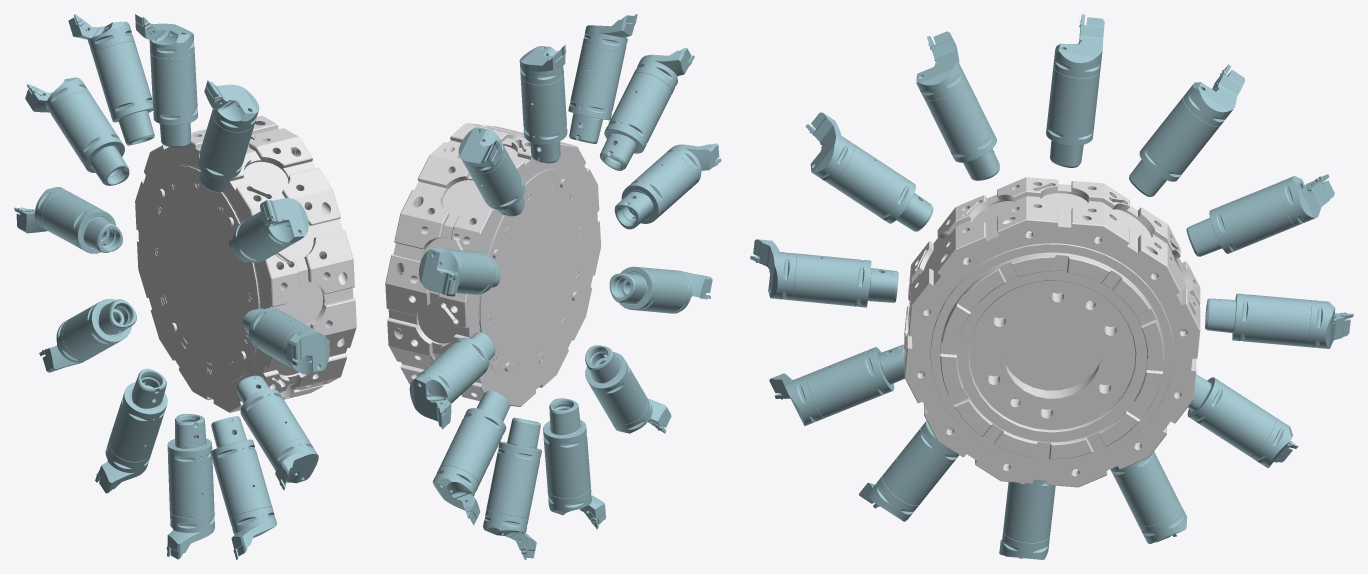
File: turret-stations.glb
3 renders of one model, left to right at view 1: azimuth 30°, elevation 25°; view 2: azimuth 150°, elevation 25°; view 3: azimuth 270°, elevation 25°, orthographic. The views are drawn at different scales.
Visible parts, largest first — view 1: Turret Assembly; view 2: Turret Assembly; view 3: Turret Assembly.
Part boxes in pixels (x1,y1,x2,y2): Turret Assembly: (14, 14, 356, 559); Turret Assembly: (385, 14, 721, 559); Turret Assembly: (750, 14, 1353, 559).
Bounding box in the file's own units: 23.4 × 80.51 × 80.51.
